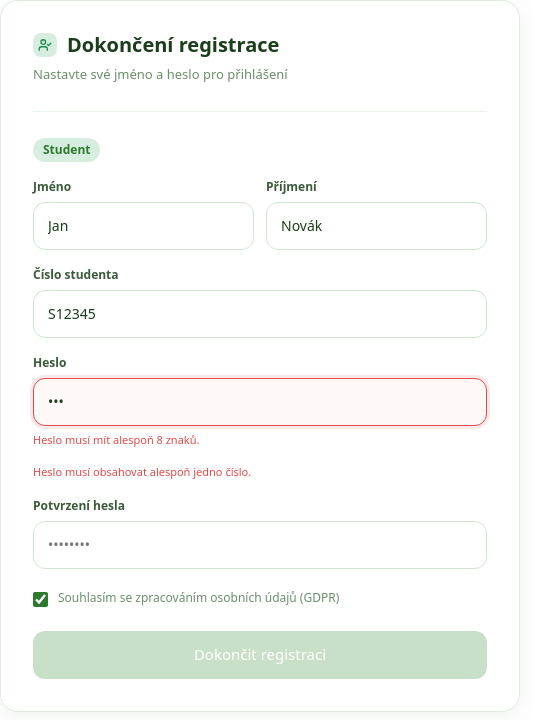
CompleteRegistrationView › shows password validation and mismatch messages
Type "different123" into the password field with placeholder "••••••••".
click(260, 544); type("different123")  # box [33,520,487,568]
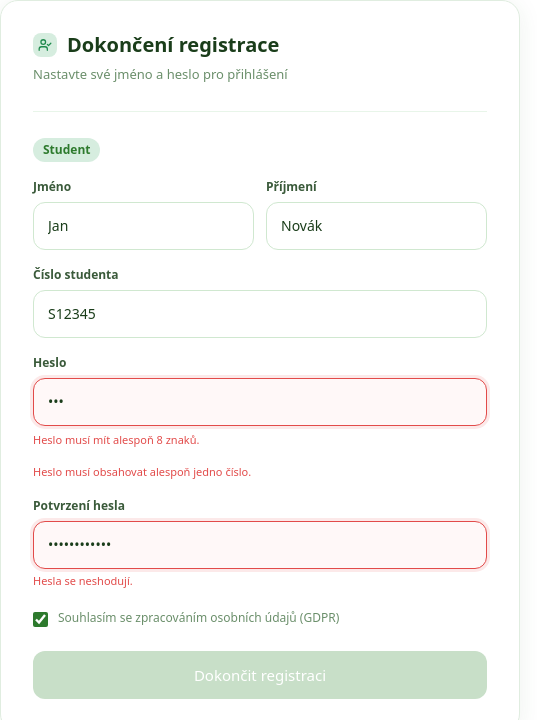
Expected: the text "Heslo musí mít alespoň 8 znaků." is shown, [33,432,200,446]
Now the text "Hesla se neshodují." is shown, box [33,572,133,588]
